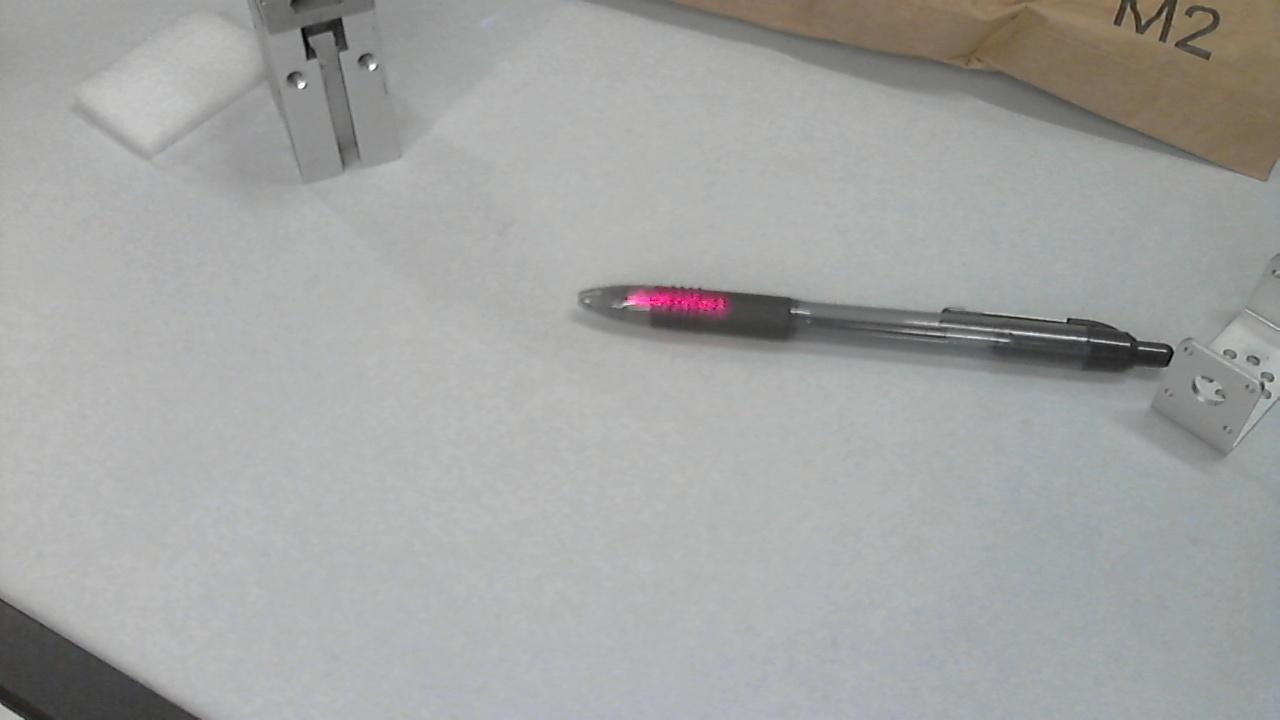Object retractable gel pen - Material rubber - Pdfname asdasdaswe: (613, 282, 729, 319)
